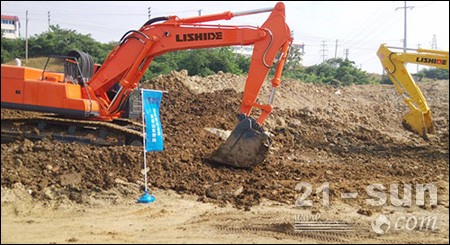excavator: (7, 1, 304, 173), (374, 36, 450, 146)
